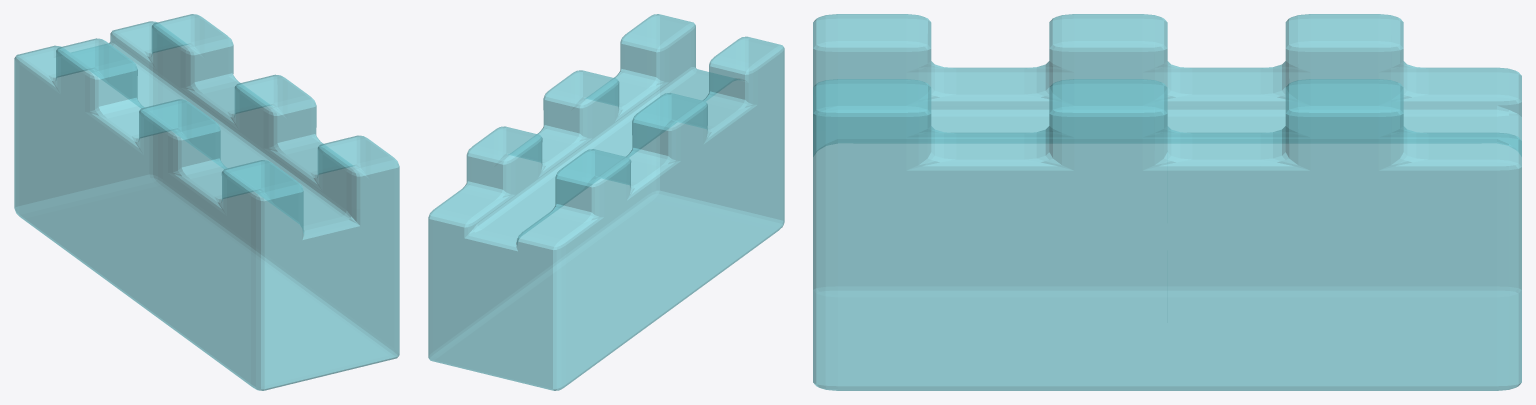
Rendered from block luar ice 3.fbx.
The picture shows the model from 3 angles, left to right: view 1: azimuth 30°, elevation 25°; view 2: azimuth 150°, elevation 25°; view 3: azimuth 270°, elevation 25°; orthographic projection. The views are drawn at different scales.
Visible parts, largest first — view 1: Cube.009; view 2: Cube.009; view 3: Cube.009.
Part boxes in pixels (bbox=[...]): Cube.009: bbox=[14, 14, 399, 390]; Cube.009: bbox=[428, 14, 784, 390]; Cube.009: bbox=[813, 14, 1521, 390].
Size of the model in its own units: 400 by 531 by 1200.
